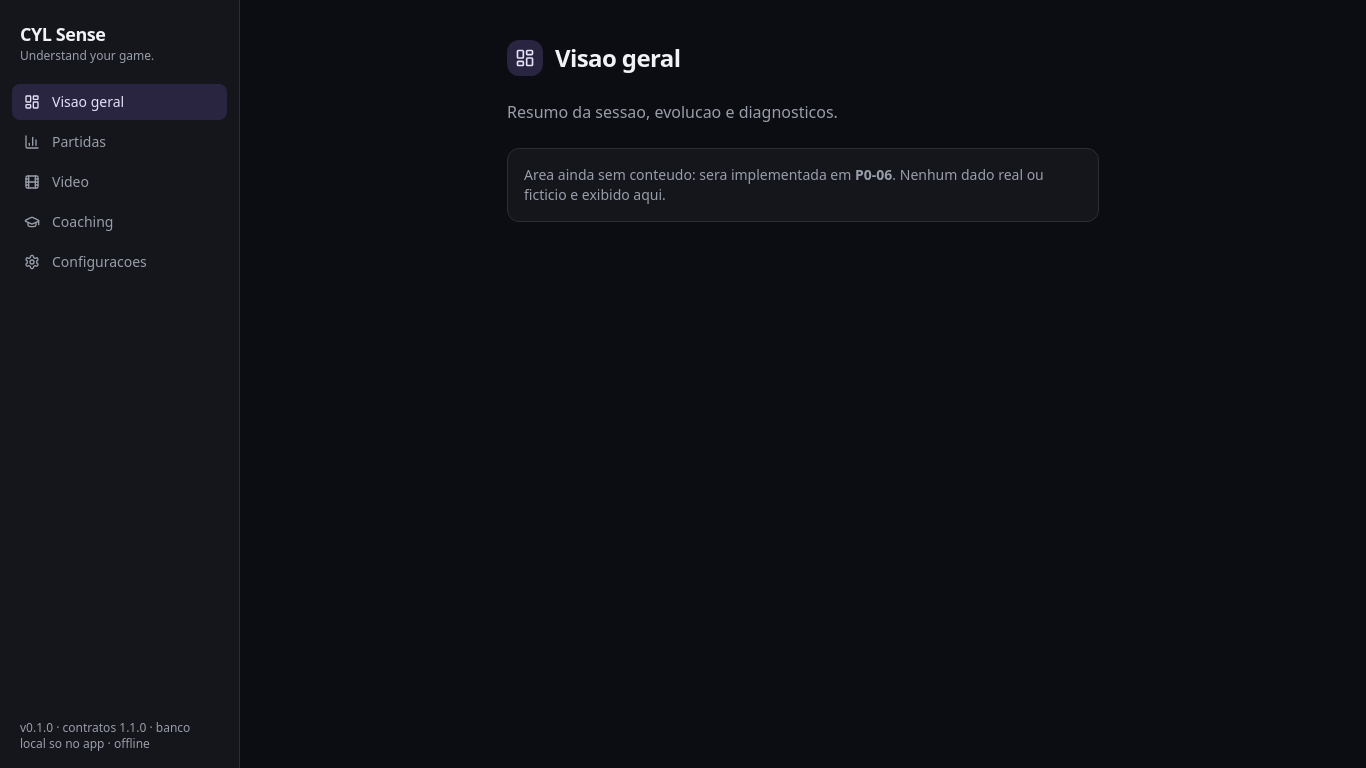
it: App shell › abre na Visao geral e navega para outra area
Expected: the heading reads "Visao geral", left=555, top=41, right=680, bottom=74
Click the button "Video".
click(120, 182)  # box left=12, top=164, right=227, bottom=200
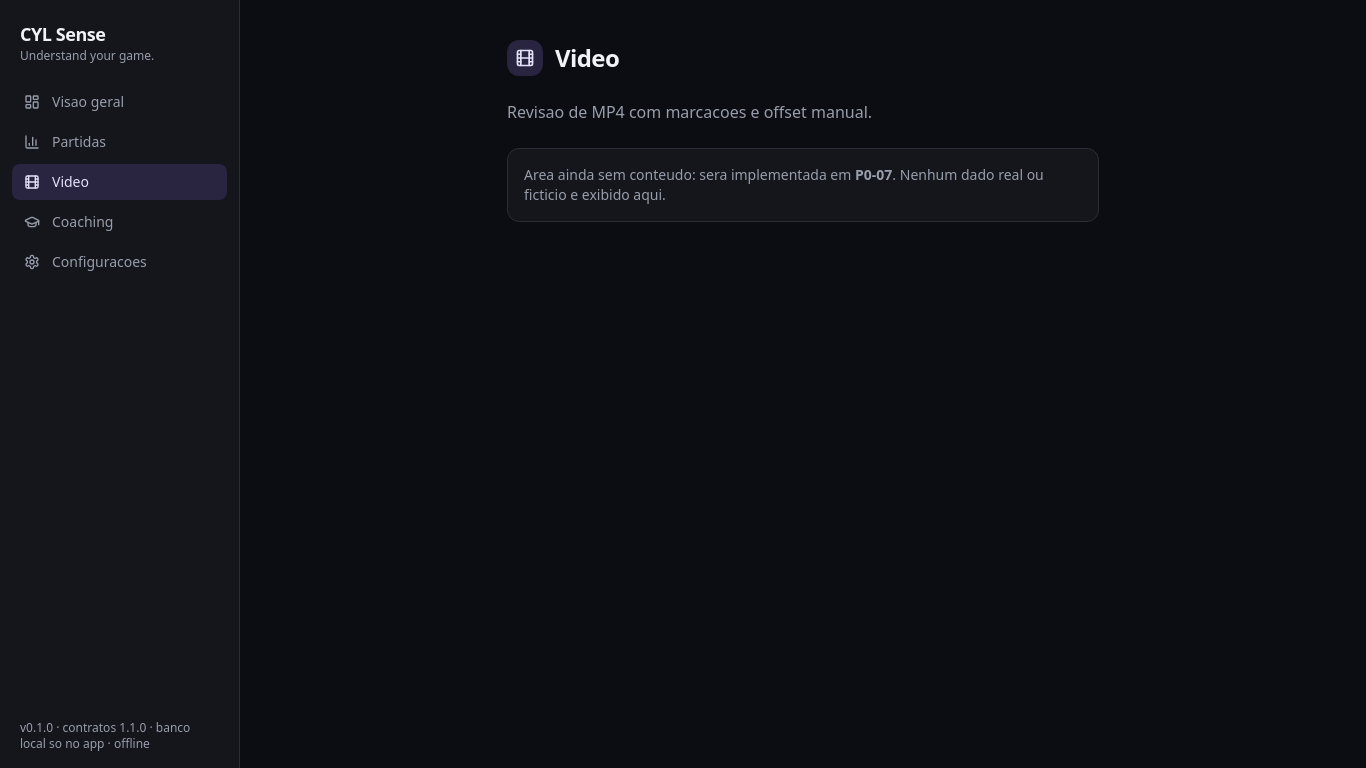
Expected: the heading reads "Video", left=555, top=41, right=619, bottom=74
